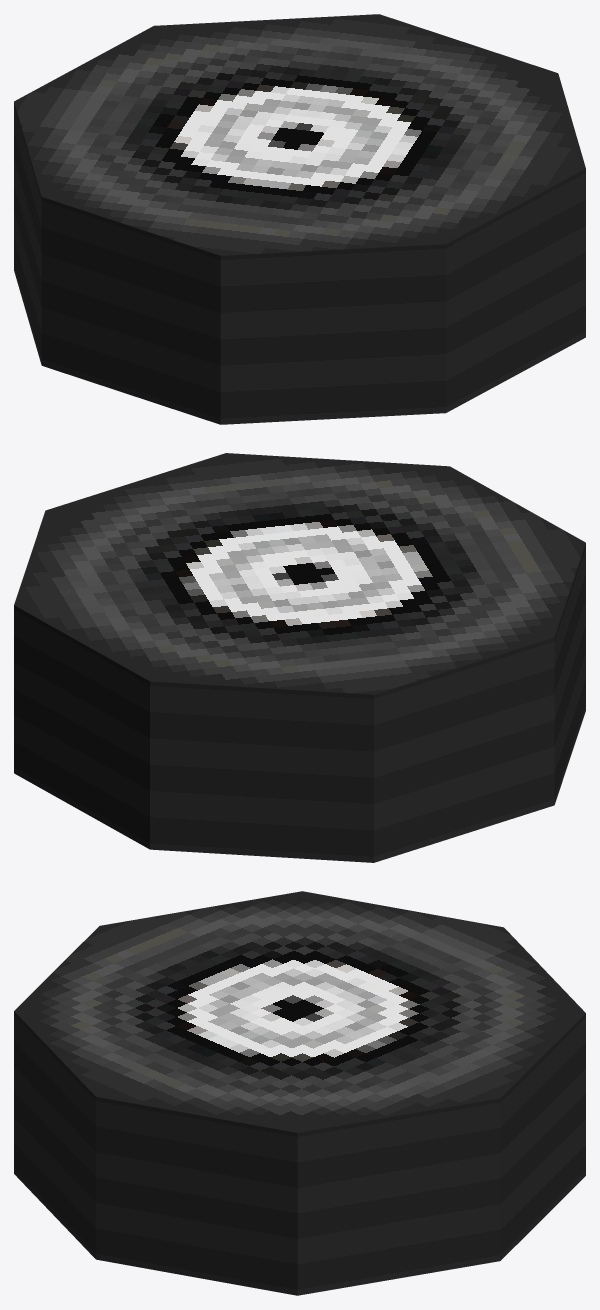
The model's file is police_car_wheel.glb.
3 views of the same model, one above another, from view 1: azimuth 30°, elevation 25°; view 2: azimuth 150°, elevation 25°; view 3: azimuth 270°, elevation 25° (orthographic). The views are drawn at different scales.
Visible parts, largest first — view 1: Car5_Taxi.001; view 2: Car5_Taxi.001; view 3: Car5_Taxi.001.
Boxes of the visible parts, x1=… form: Car5_Taxi.001: x1=14, y1=14, x2=585, y2=424; Car5_Taxi.001: x1=14, y1=453, x2=585, y2=862; Car5_Taxi.001: x1=14, y1=891, x2=585, y2=1295.
Bounding box in the file's own units: 0.7609 × 0.239 × 0.7609.
Materials: 1 (1 with a texture image).
